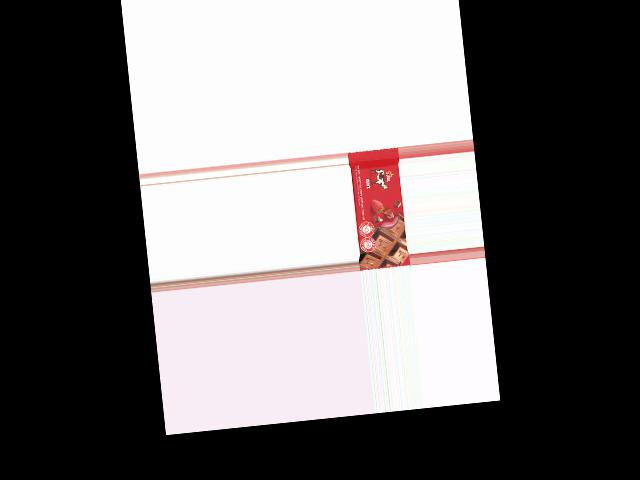chocolate: (347, 146, 409, 269)
